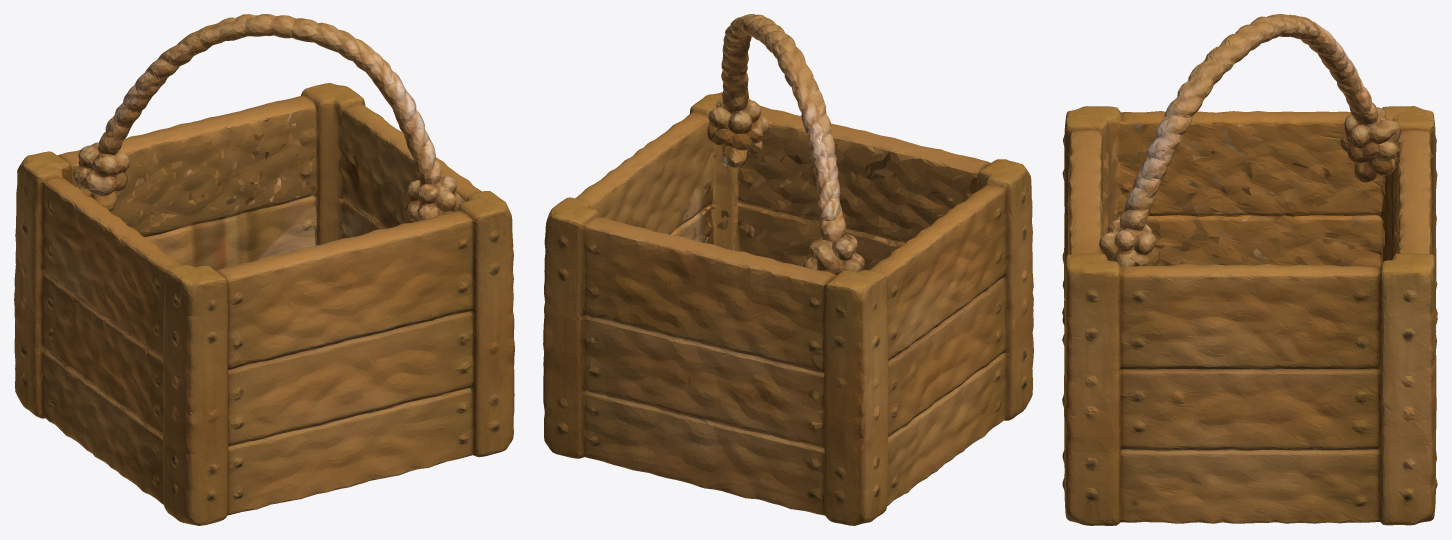
Rendered from prop-crate.glb.
3 views of the same model, side by side, from view 1: azimuth 30°, elevation 25°; view 2: azimuth 150°, elevation 25°; view 3: azimuth 270°, elevation 25° (orthographic). The views are drawn at different scales.
Parts seen in each view (by area): view 1: geometry_0; view 2: geometry_0; view 3: geometry_0.
Boxes of the visible parts, x1=… form: geometry_0: x1=14, y1=14, x2=514, y2=525; geometry_0: x1=543, y1=14, x2=1033, y2=525; geometry_0: x1=1062, y1=14, x2=1437, y2=525.
Size of the model in its own units: 1.71 by 2 by 1.6.
1 material, 1 textured.
